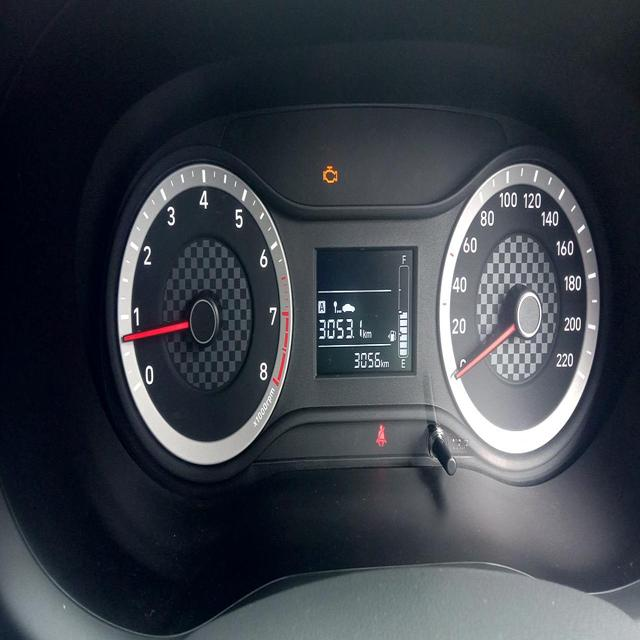odometer: (350, 350, 381, 372)
